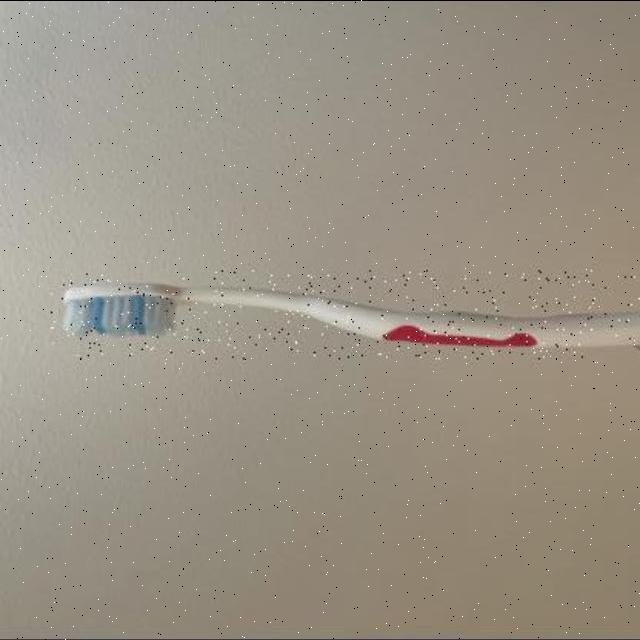toothbrush: (51, 270, 640, 360)
